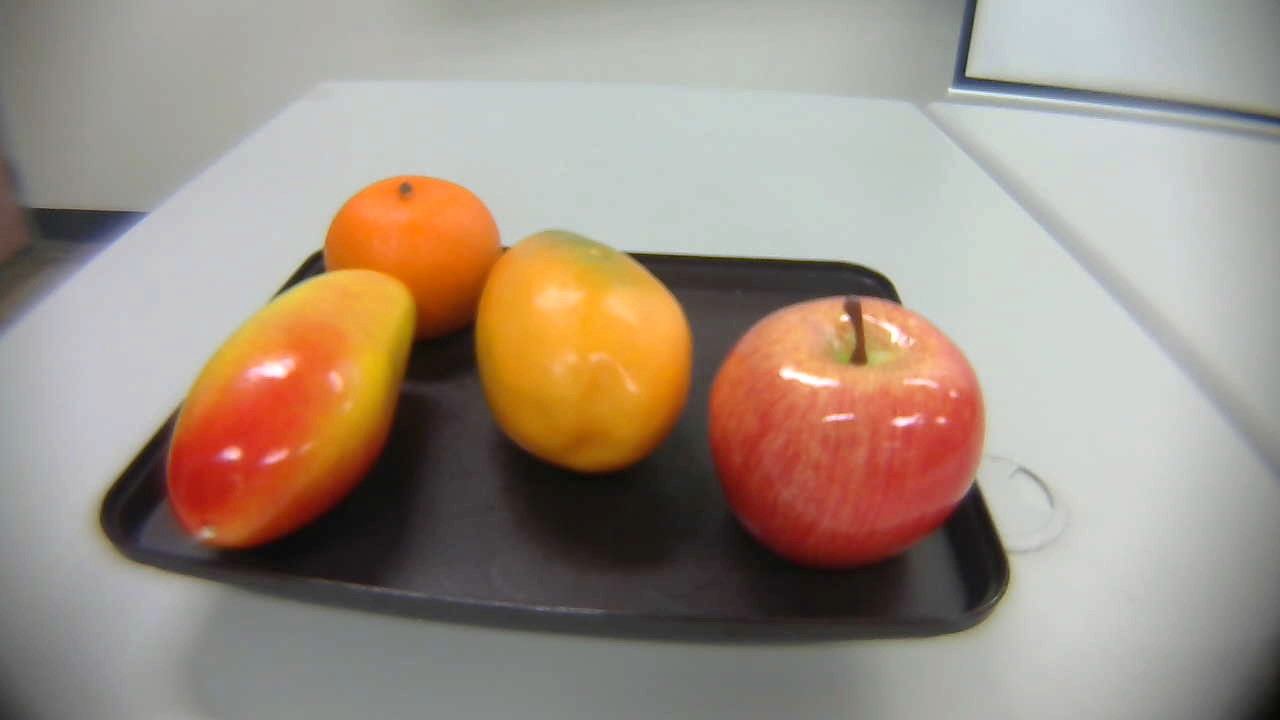orange: (320, 174, 507, 354)
papya: (470, 229, 697, 474)
red apple: (703, 284, 995, 583)
red mango: (162, 261, 425, 553)
